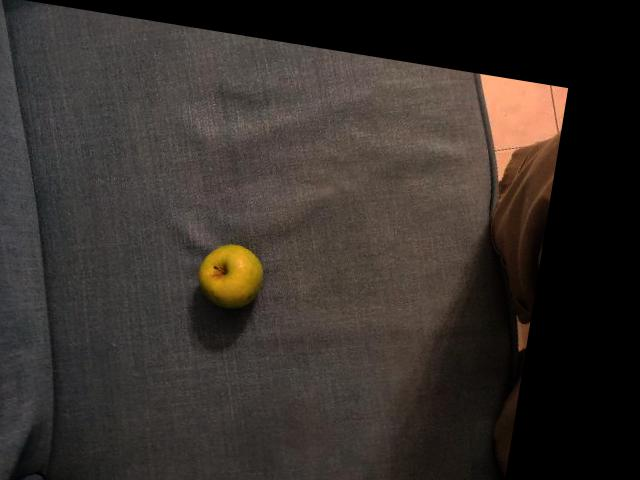apple: (188, 233, 279, 317)
